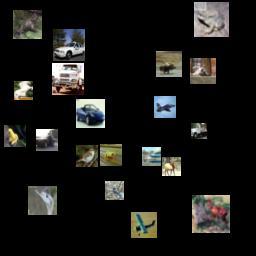airplane: (131, 212, 157, 238), (154, 96, 176, 118)
automobile: (53, 29, 85, 61), (76, 99, 105, 128), (36, 129, 58, 151)
bird: (28, 186, 57, 215), (76, 145, 98, 167), (105, 181, 124, 200)
cat: (190, 58, 216, 84)
deer: (192, 195, 230, 233), (156, 51, 182, 77), (162, 157, 181, 176)
frog: (194, 2, 229, 37), (13, 10, 42, 39), (100, 144, 122, 166), (4, 125, 26, 147)
ship: (142, 147, 161, 166)
truck: (52, 63, 84, 95), (191, 123, 207, 139)
